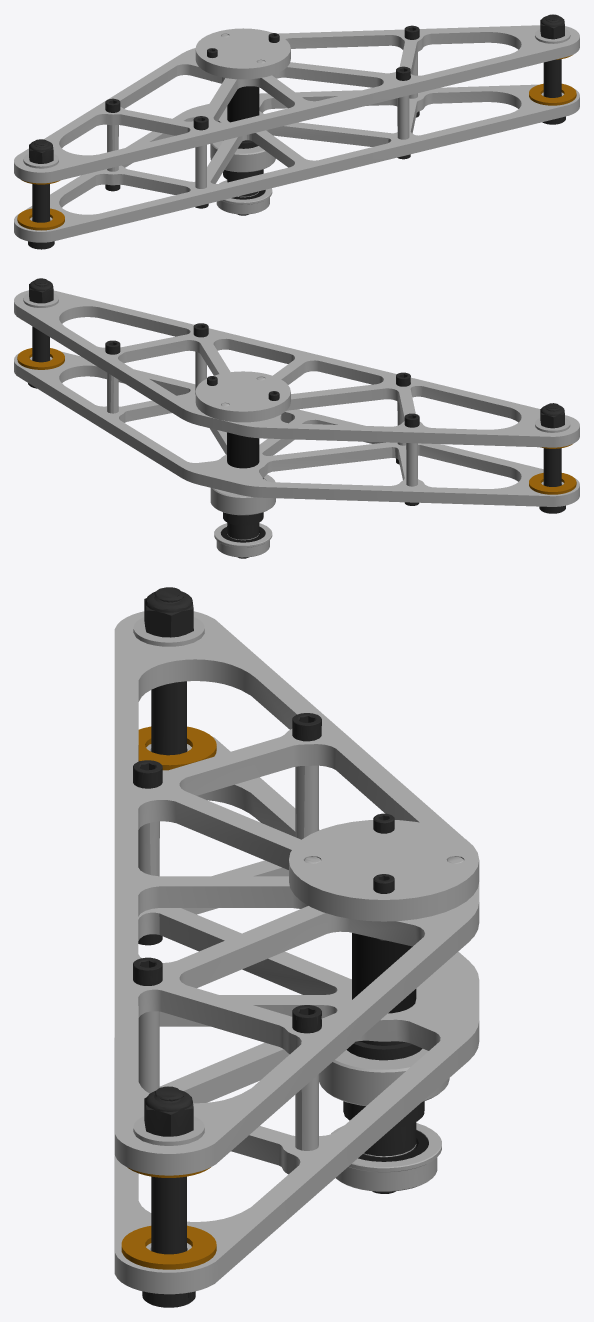
File: rover_left_lambda_lower.glb
3 views of the same model, one above another, from view 1: azimuth 30°, elevation 25°; view 2: azimuth 150°, elevation 25°; view 3: azimuth 270°, elevation 25° (orthographic). The views are drawn at different scales.
Parts seen in each view (by area): view 1: 117100_A;1; view 2: 117100_A;1; view 3: 117100_A;1.
Part boxes in pixels (bbox=[...]): 117100_A;1: bbox=[14, 14, 579, 249]; 117100_A;1: bbox=[14, 278, 579, 558]; 117100_A;1: bbox=[114, 587, 479, 1307].
Bounding box in the file's own units: 34.42 × 10.17 × 9.72.
